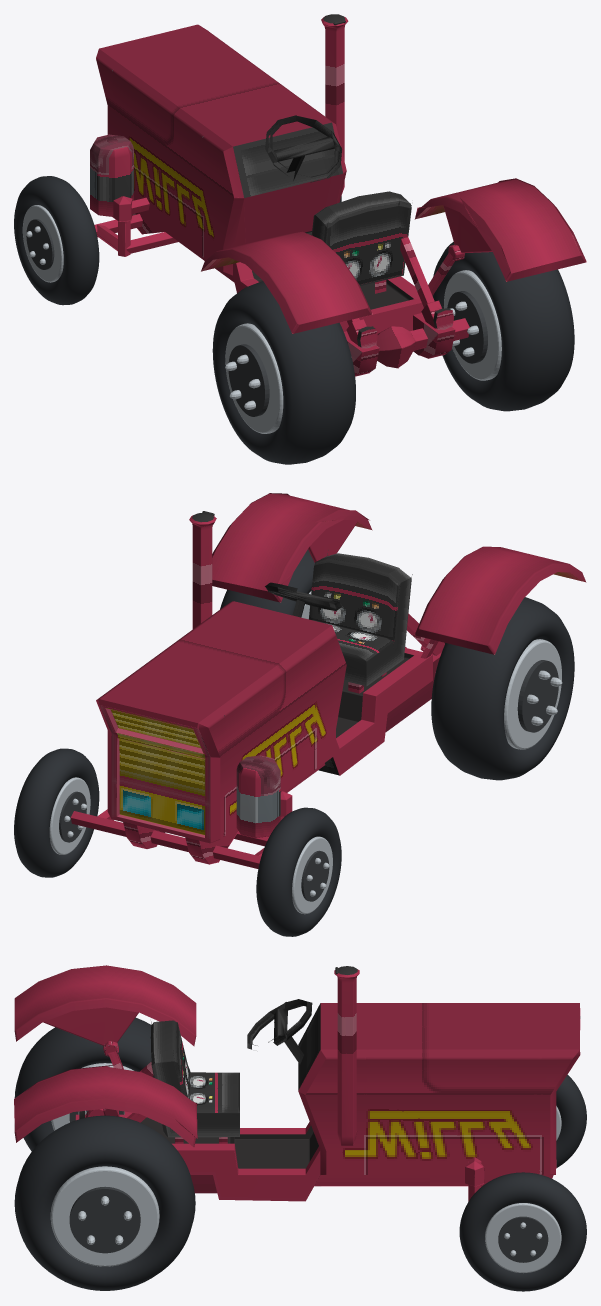
Rendered from car-willi_v.glb.
The picture shows the model from 3 angles, top to bottom: view 1: azimuth 30°, elevation 25°; view 2: azimuth 150°, elevation 25°; view 3: azimuth 270°, elevation 25°; orthographic projection. The views are drawn at different scales.
Visible parts, largest first — view 1: willi_vShape.006, blahShape, Rounded tire.164, Rounded tire.165, willi_vShape.002, HoodRotShape.033, willi_vShape.004, Rounded tire.167, HoodRotShape.032, willi_vShape.003, Alloy rim.164, Alloy rim.165 (+7 smaller); view 2: willi_vShape.006, blahShape, willi_vShape.004, Rounded tire.164, willi_vShape.002, HoodRotShape.033, Rounded tire.167, Rounded tire.166, HoodRotShape.032, willi_vShape.003, Alloy rim.164, Rim recess.328 (+8 smaller); view 3: willi_vShape.003, Rounded tire.165, HoodRotShape.033, blahShape, willi_vShape.006, Rounded tire.166, willi_vShape.004, Alloy rim.165, Rounded tire.164, Rim recess.331, willi_vShape, Alloy rim.166 (+4 smaller).
Boxes of the visible parts, x1=… form: willi_vShape.006: x1=90, y1=16, x2=469, y2=376; blahShape: x1=201, y1=178, x2=586, y2=333; Rounded tire.164: x1=212, y1=281, x2=355, y2=464; Rounded tire.165: x1=432, y1=242, x2=574, y2=411; willi_vShape.002: x1=96, y1=49, x2=233, y2=271; HoodRotShape.033: x1=119, y1=39, x2=312, y2=129; willi_vShape.004: x1=96, y1=24, x2=423, y2=333; Rounded tire.167: x1=14, y1=176, x2=99, y2=305; HoodRotShape.032: x1=112, y1=63, x2=209, y2=174; willi_vShape.003: x1=99, y1=24, x2=334, y2=146; Alloy rim.164: x1=225, y1=323, x2=283, y2=433; Alloy rim.165: x1=444, y1=270, x2=501, y2=380; willi_vShape.006: x1=70, y1=515, x2=445, y2=868; blahShape: x1=212, y1=493, x2=585, y2=654; willi_vShape.004: x1=96, y1=601, x2=432, y2=843; Rounded tire.164: x1=431, y1=597, x2=574, y2=780; willi_vShape.002: x1=198, y1=625, x2=346, y2=838; HoodRotShape.033: x1=115, y1=618, x2=307, y2=708; Rounded tire.167: x1=256, y1=807, x2=341, y2=936; Rounded tire.166: x1=14, y1=748, x2=99, y2=877; HoodRotShape.032: x1=218, y1=642, x2=315, y2=753; willi_vShape.003: x1=97, y1=601, x2=331, y2=722; Alloy rim.164: x1=504, y1=639, x2=561, y2=749; Rim recess.328: x1=517, y1=660, x2=558, y2=732; willi_vShape.003: x1=305, y1=1003, x2=579, y2=1174; Rounded tire.165: x1=14, y1=1115, x2=195, y2=1290; HoodRotShape.033: x1=366, y1=1003, x2=541, y2=1095; blahShape: x1=14, y1=965, x2=197, y2=1146; willi_vShape.006: x1=75, y1=969, x2=553, y2=1201; Rounded tire.166: x1=459, y1=1172, x2=586, y2=1291; willi_vShape.004: x1=124, y1=1008, x2=580, y2=1201; Alloy rim.165: x1=50, y1=1166, x2=159, y2=1266; Rounded tire.164: x1=14, y1=1017, x2=190, y2=1151; Rim recess.331: x1=69, y1=1186, x2=140, y2=1253; willi_vShape: x1=140, y1=1117, x2=318, y2=1168; Alloy rim.166: x1=485, y1=1203, x2=561, y2=1273.
Bounding box in the file's own units: 2.58 × 2.42 × 4.22.
Materials: 12 (9 with a texture image).
